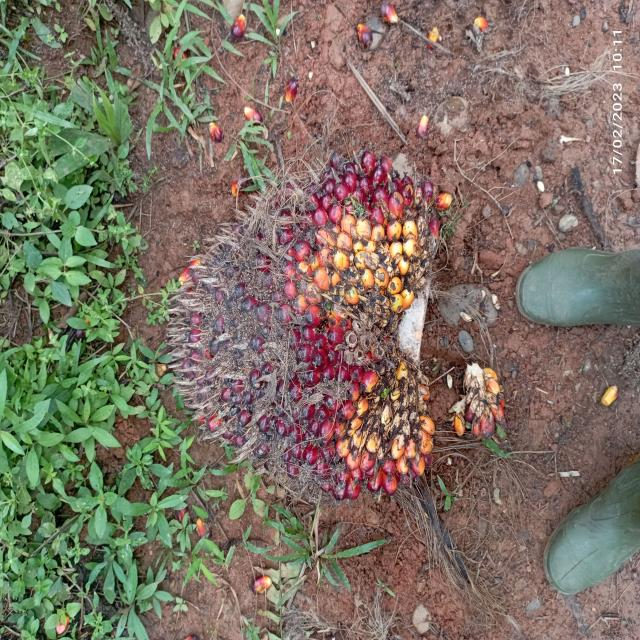fraksi 1: (147, 127, 460, 503)
